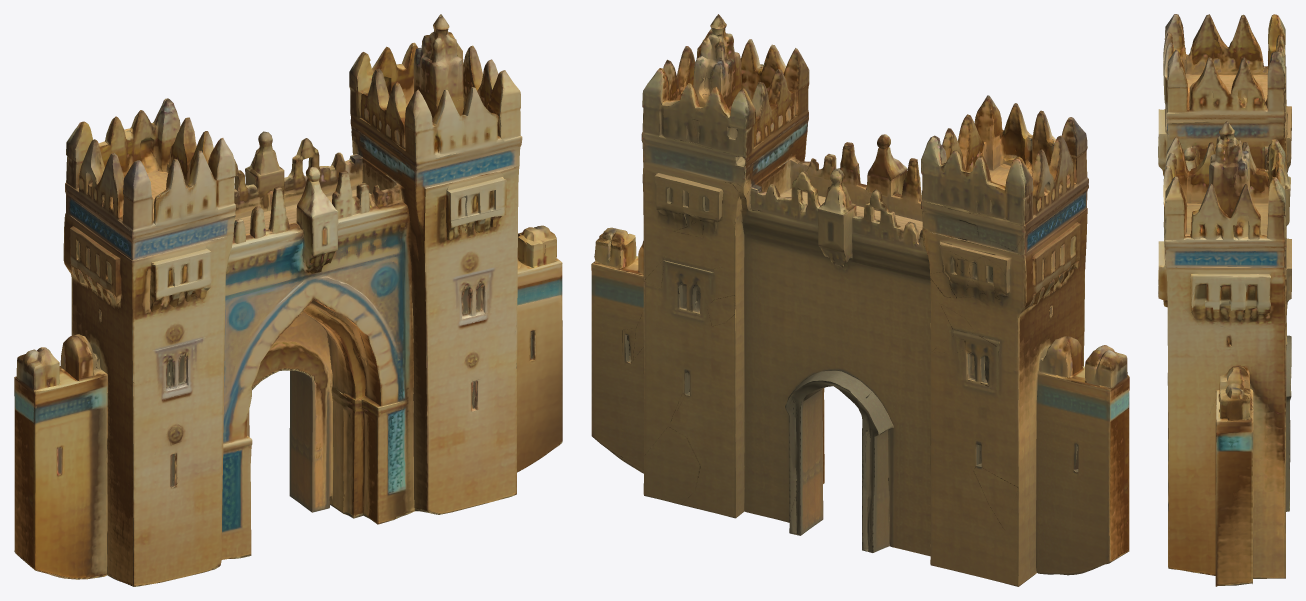
Rendered from jer_gate_damascus.glb.
3 renders of one model, left to right at view 1: azimuth 30°, elevation 25°; view 2: azimuth 150°, elevation 25°; view 3: azimuth 270°, elevation 25°, orthographic. The views are drawn at different scales.
Parts seen in each view (by area): view 1: geometry_0; view 2: geometry_0; view 3: geometry_0.
Boxes of the visible parts, x1=… form: geometry_0: x1=14, y1=14, x2=562, y2=586; geometry_0: x1=591, y1=14, x2=1129, y2=586; geometry_0: x1=1158, y1=14, x2=1291, y2=586.
Size of the model in its own units: 23.55 by 20.38 by 5.64.
1 material, 1 textured.
